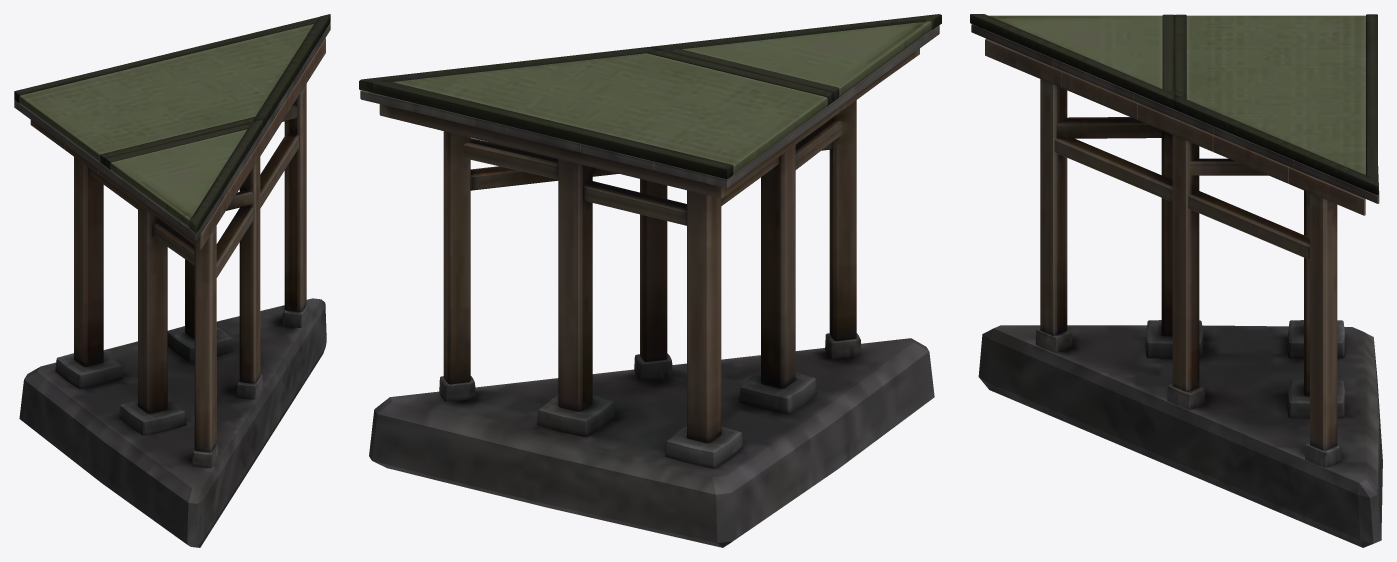
The model's file is Architecture_JapaneseStyle_FloorTryangle_9a9cae.glb.
3 renders of one model, left to right at view 1: azimuth 30°, elevation 25°; view 2: azimuth 150°, elevation 25°; view 3: azimuth 270°, elevation 25°, orthographic. The views are drawn at different scales.
Size of the model in its own units: 4.05 by 4.01 by 4.06.
Materials: 1 (1 with a texture image).
